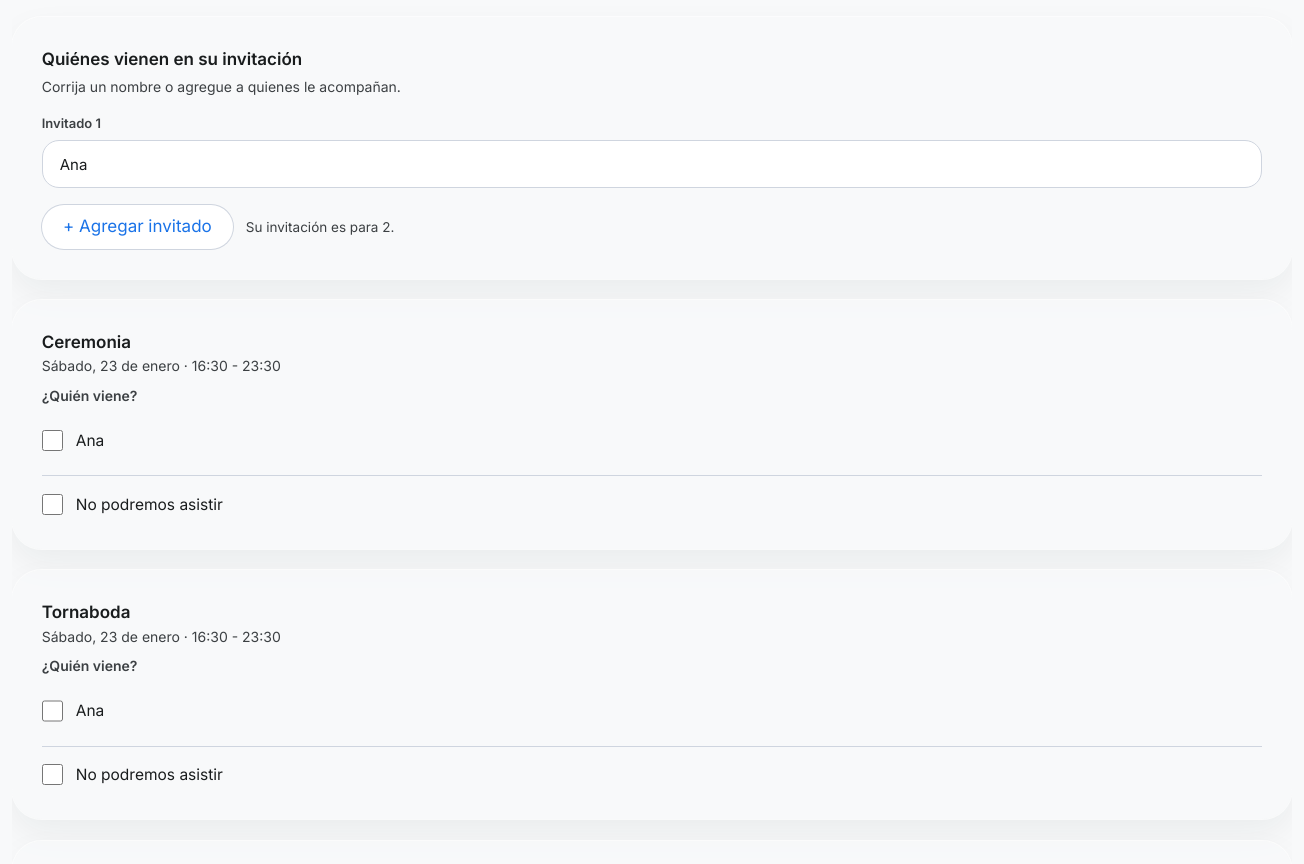
InvitationRsvp › needs an answer for every event before it sends
Click the checkbox labelled "Ana" below "Ceremonia": (52, 441) [42, 430, 63, 451]
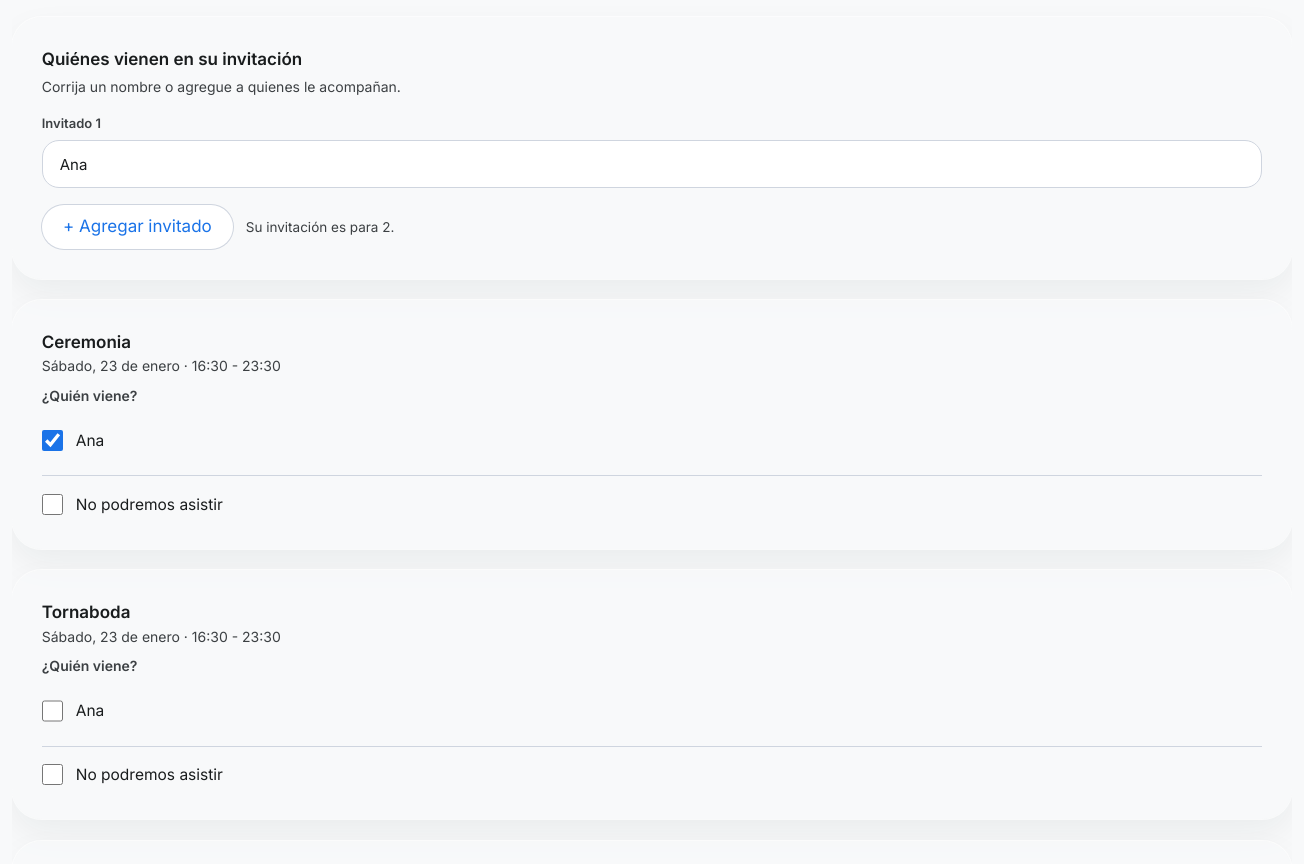
Click the checkbox labelled "No podremos asistir" below "Tornaboda": (52, 775) [42, 764, 63, 785]
(page scrolled)
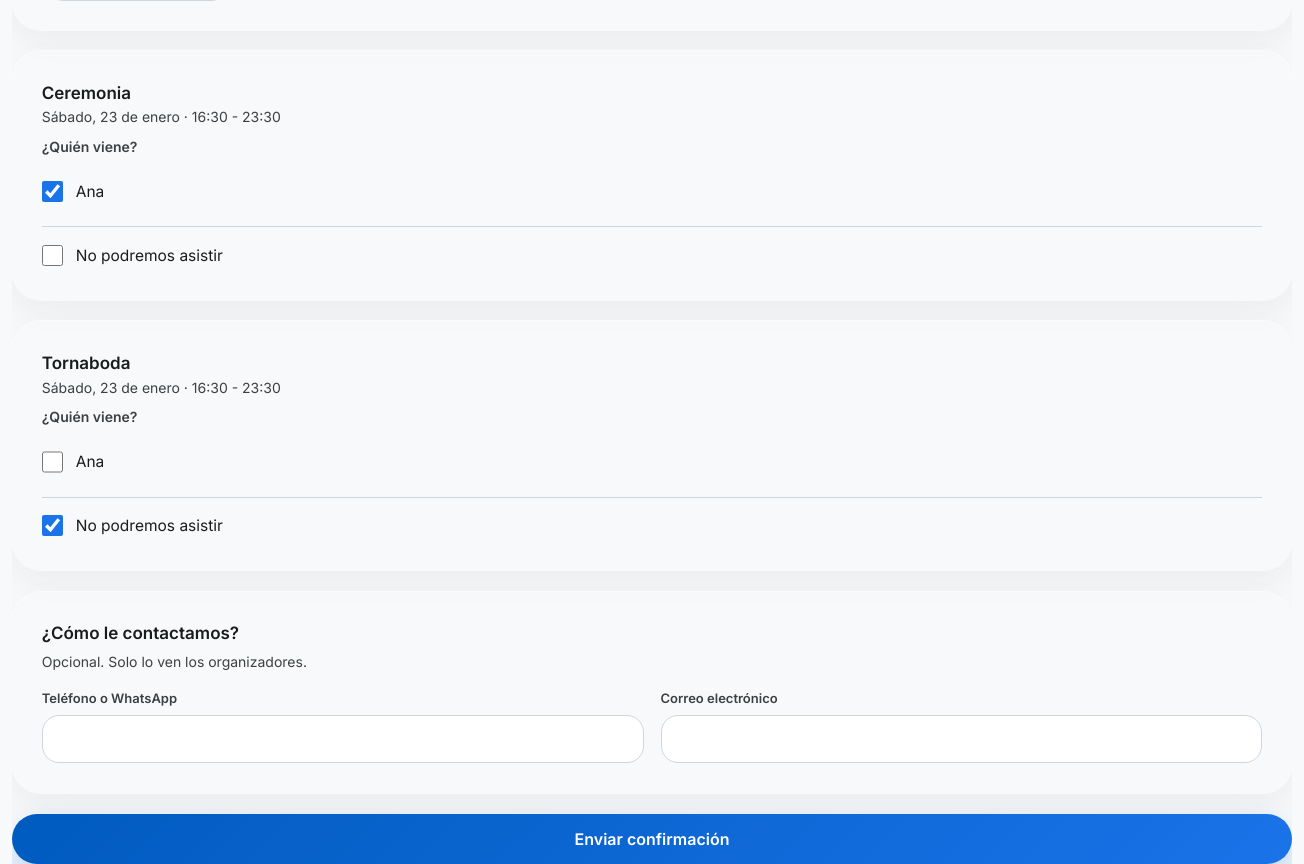
expect the button "Enviar confirmación" is enabled: met, box [12, 814, 1292, 863]
